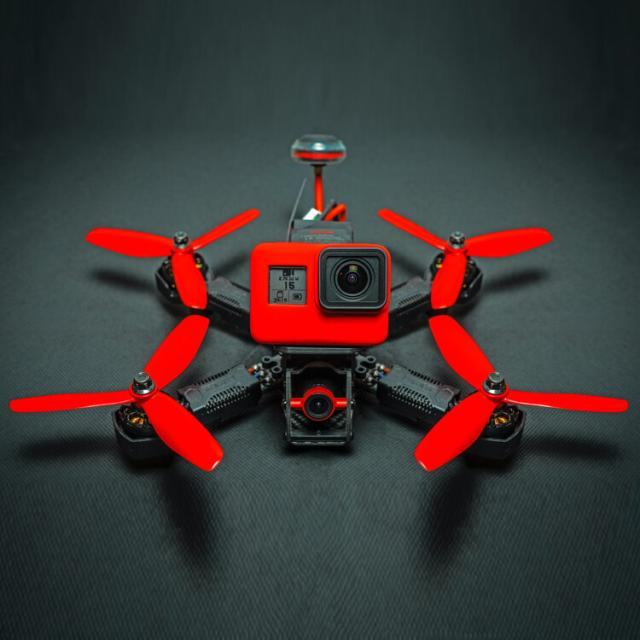drone: (67, 172, 584, 515)
